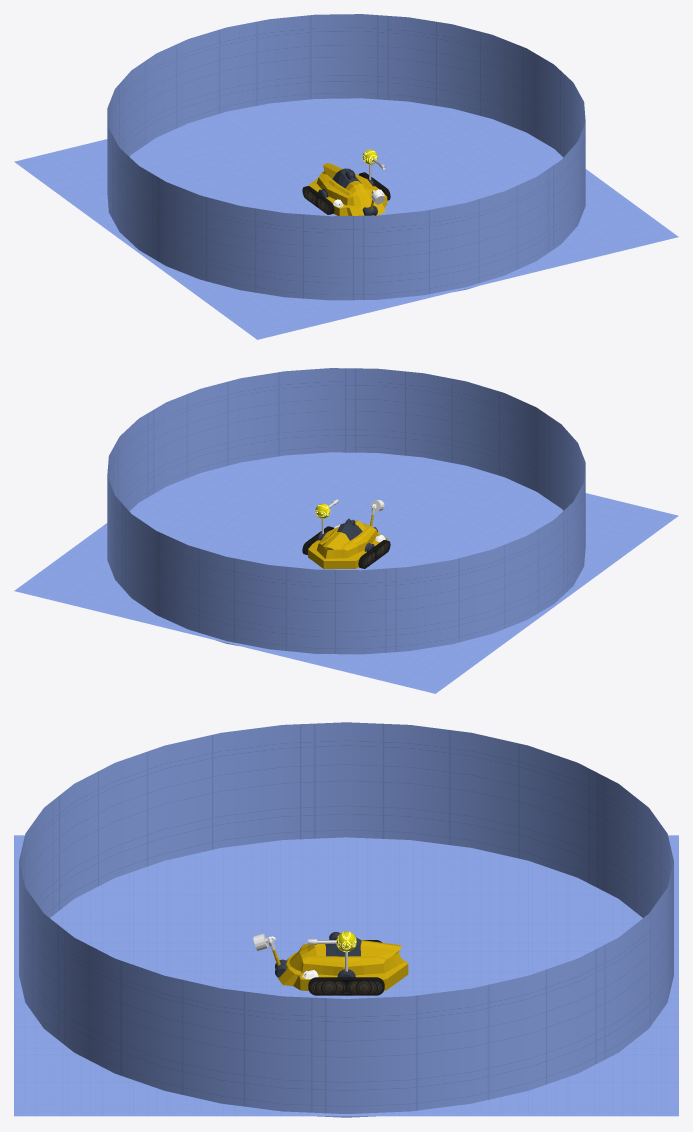
The model's file is bot-1.gltf.
3 views of the same model, one above another, from view 1: azimuth 30°, elevation 25°; view 2: azimuth 150°, elevation 25°; view 3: azimuth 270°, elevation 25° (orthographic). The views are drawn at different scales.
Visible parts, largest first — view 1: Cylinder, Floor, BotBody1; view 2: Cylinder, Floor, BotBody1; view 3: Cylinder, Floor, BotBody1.
Part boxes in pixels (box(x1,y1,x2,y2)): Cylinder: box(107, 14, 585, 300); Floor: box(14, 98, 678, 339); BotBody1: box(308, 163, 387, 215); Cylinder: box(107, 368, 585, 654); Floor: box(14, 452, 678, 693); BotBody1: box(308, 520, 387, 568); Cylinder: box(19, 722, 673, 1117); Floor: box(14, 835, 678, 1116); BotBody1: box(277, 937, 408, 990).
Bounding box in the file's own units: 10.15 × 2 × 10.15.
9 materials, 4 textured.
